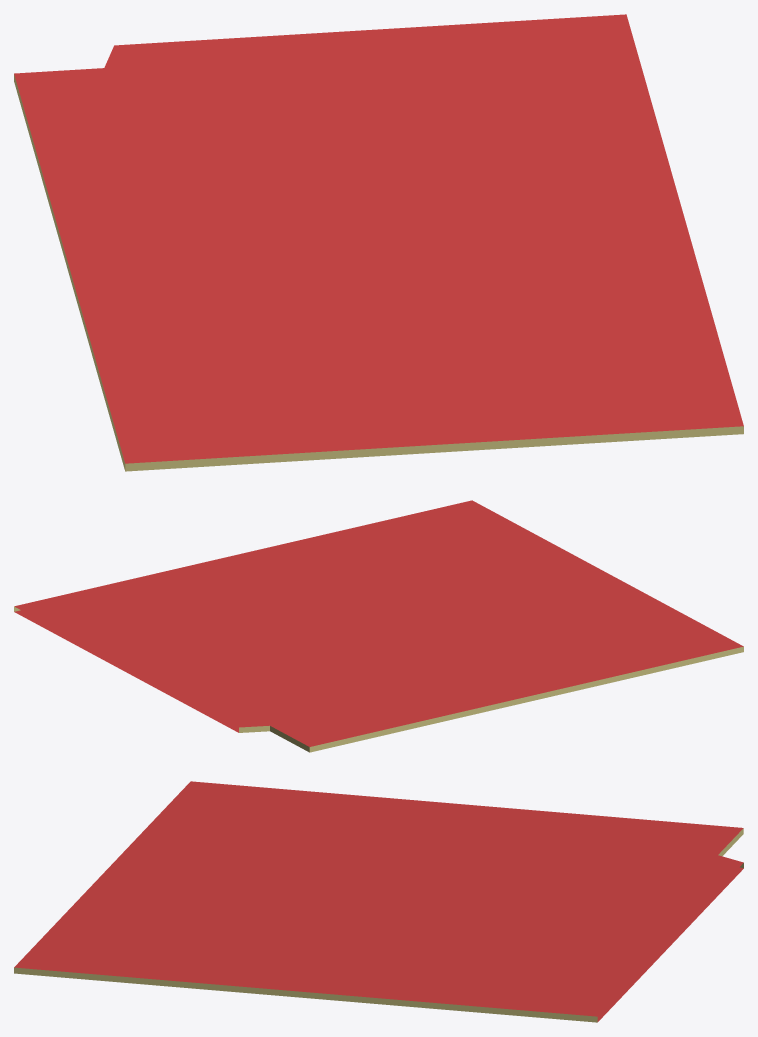
The picture shows the model from 3 angles, top to bottom: view 1: azimuth 30°, elevation 25°; view 2: azimuth 150°, elevation 25°; view 3: azimuth 270°, elevation 25°; orthographic projection. The views are drawn at different scales.
Size of the model in its own units: 10.22 by 11.06 by 0.932.
